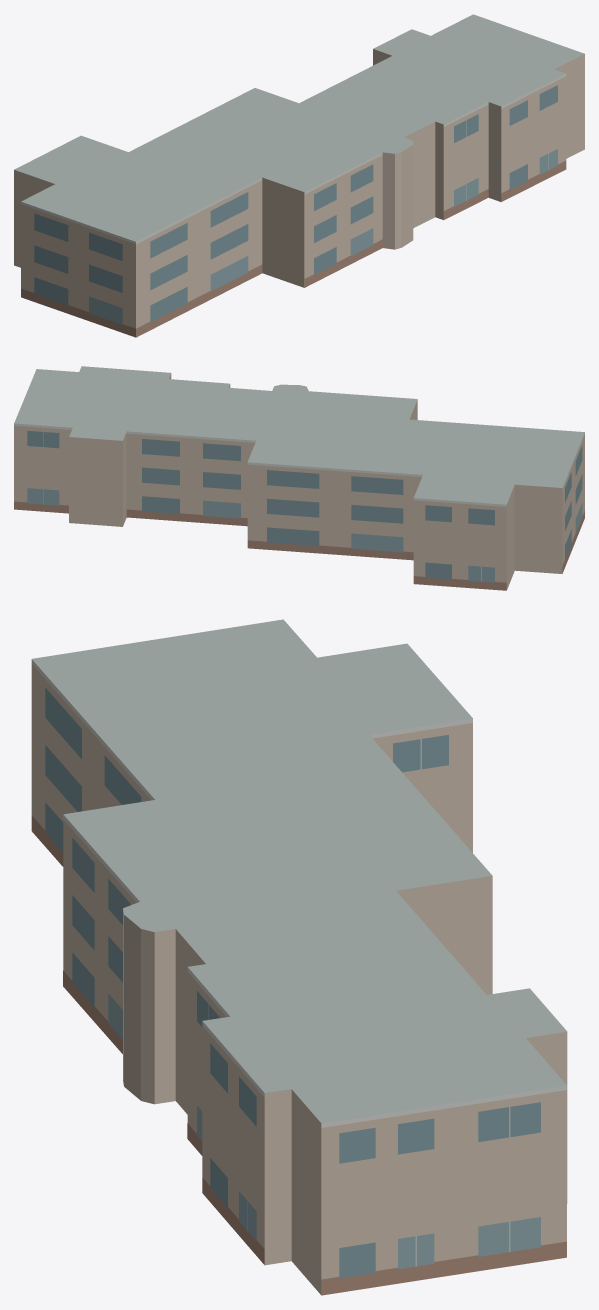
File: residential-93cbf849-b2f1-4076-b2f1-589b5ac7173c.glb
3 views of the same model, one above another, from view 1: azimuth 30°, elevation 25°; view 2: azimuth 150°, elevation 25°; view 3: azimuth 270°, elevation 25° (orthographic). The views are drawn at different scales.
Parts seen in each view (by area): view 1: residential-93cbf849-b2f1-4076-b2f1-589b5ac7173c.tmp; view 2: residential-93cbf849-b2f1-4076-b2f1-589b5ac7173c.tmp; view 3: residential-93cbf849-b2f1-4076-b2f1-589b5ac7173c.tmp.
Part boxes in pixels (<box>): residential-93cbf849-b2f1-4076-b2f1-589b5ac7173c.tmp: <box>14,14,584,337</box>; residential-93cbf849-b2f1-4076-b2f1-589b5ac7173c.tmp: <box>14,366,584,590</box>; residential-93cbf849-b2f1-4076-b2f1-589b5ac7173c.tmp: <box>31,619,567,1295</box>.
Size of the model in its own units: 57.46 by 9.15 by 25.82.
